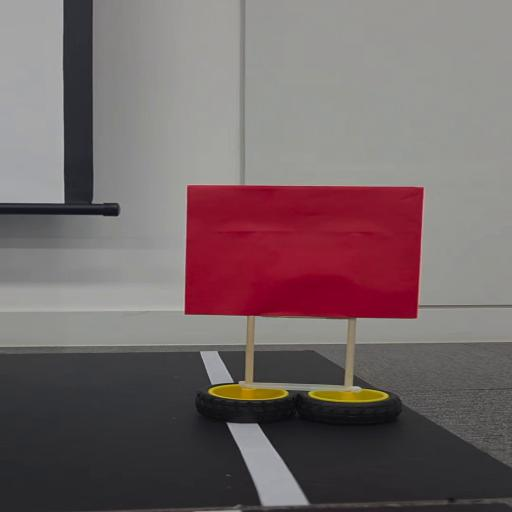Sign_A: (180, 180, 428, 422)
